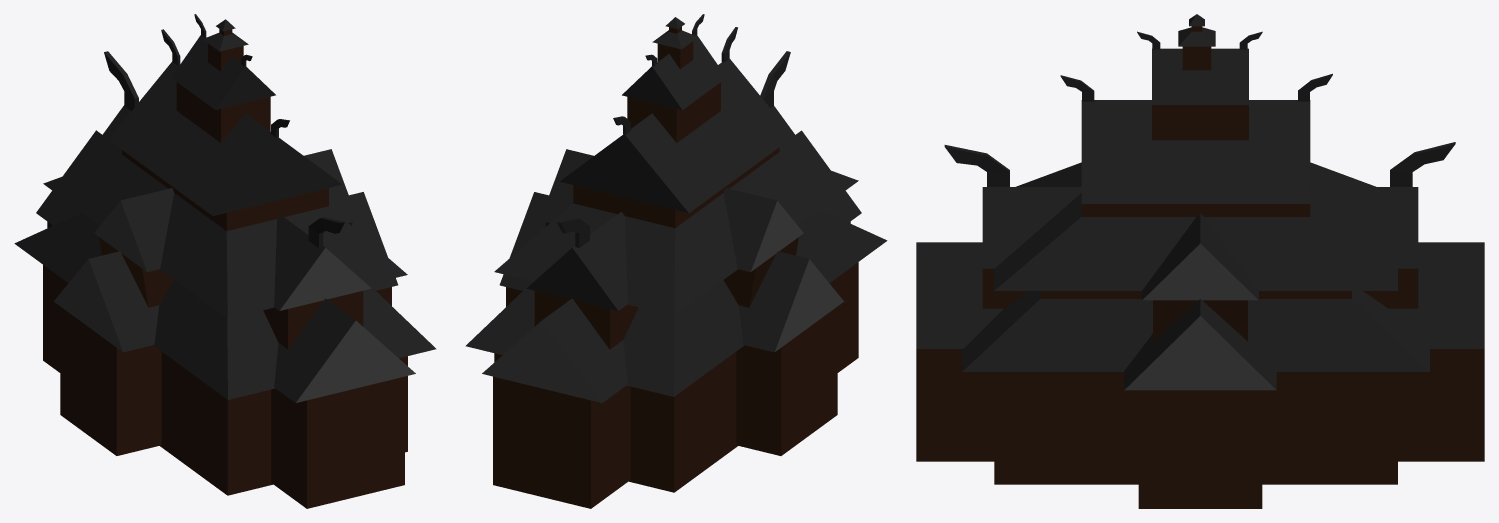
The model's file is church-DLC1.glb.
The picture shows the model from 3 angles, left to right: view 1: azimuth 30°, elevation 25°; view 2: azimuth 150°, elevation 25°; view 3: azimuth 270°, elevation 25°; orthographic projection. The views are drawn at different scales.
Parts seen in each view (by area): view 1: Cube.025, Cube.027, Cube.028; view 2: Cube.025, Cube.028, Cube.027; view 3: Cube.025, Cube.027, Cube.028.
Part boxes in pixels (box(x1,y1,x2,y2)): Cube.025: box(14, 19, 436, 508); Cube.027: box(104, 51, 138, 110); Cube.028: box(308, 217, 344, 248); Cube.025: box(465, 17, 887, 508); Cube.028: box(760, 51, 790, 107); Cube.027: box(557, 217, 589, 247); Cube.025: box(916, 14, 1484, 508); Cube.027: box(1390, 142, 1455, 186); Cube.028: box(944, 145, 1009, 186).
Bounding box in the file's own units: 8 × 10.74 × 13.08.
